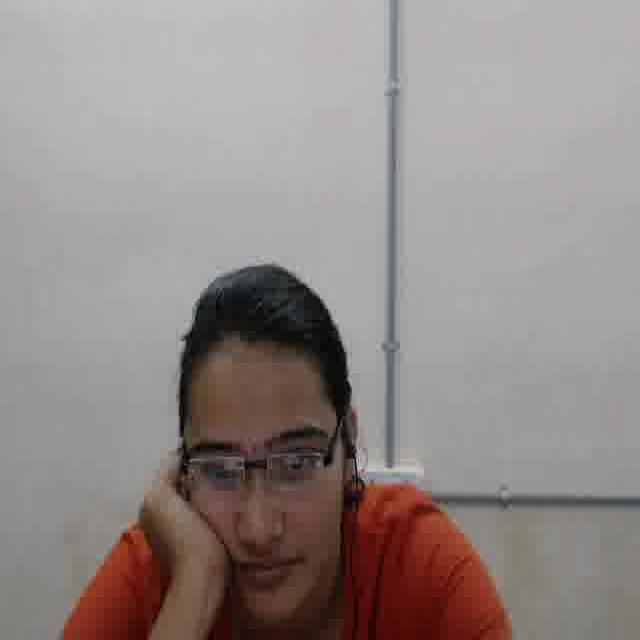Boredom: (185, 360, 343, 623)
